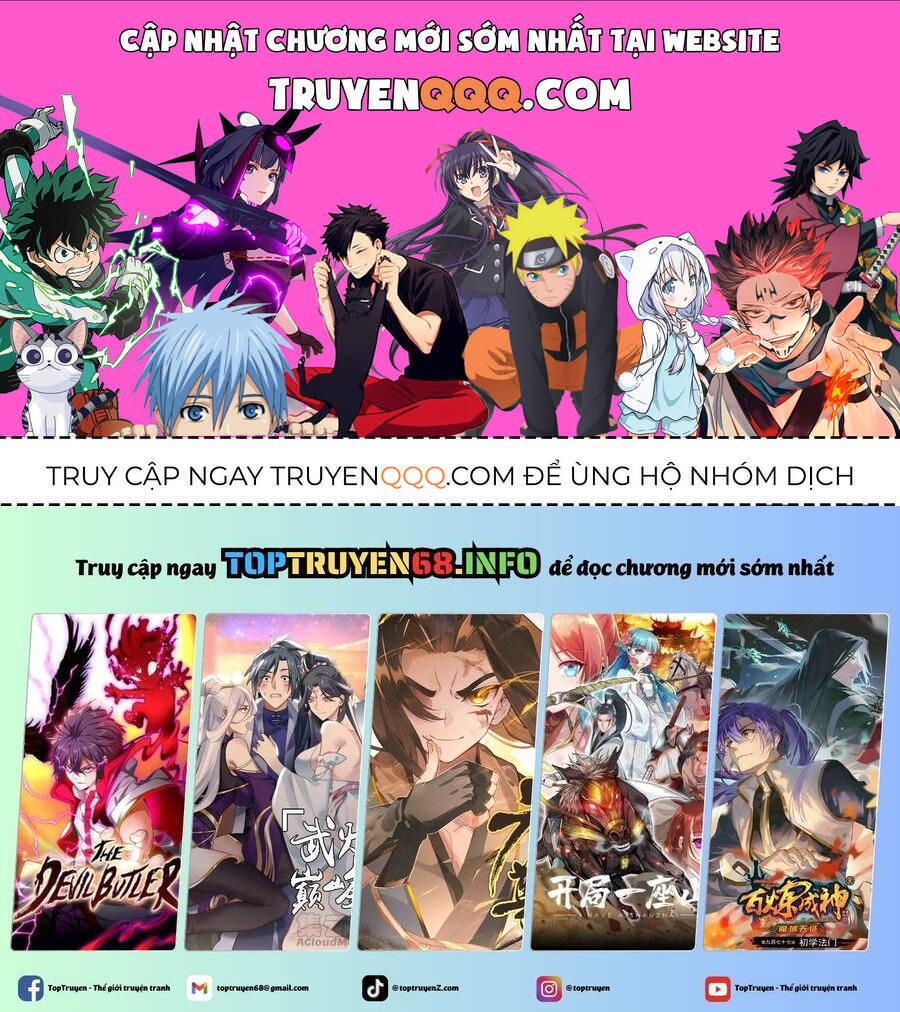quangcao: (3, 4, 894, 1007)
